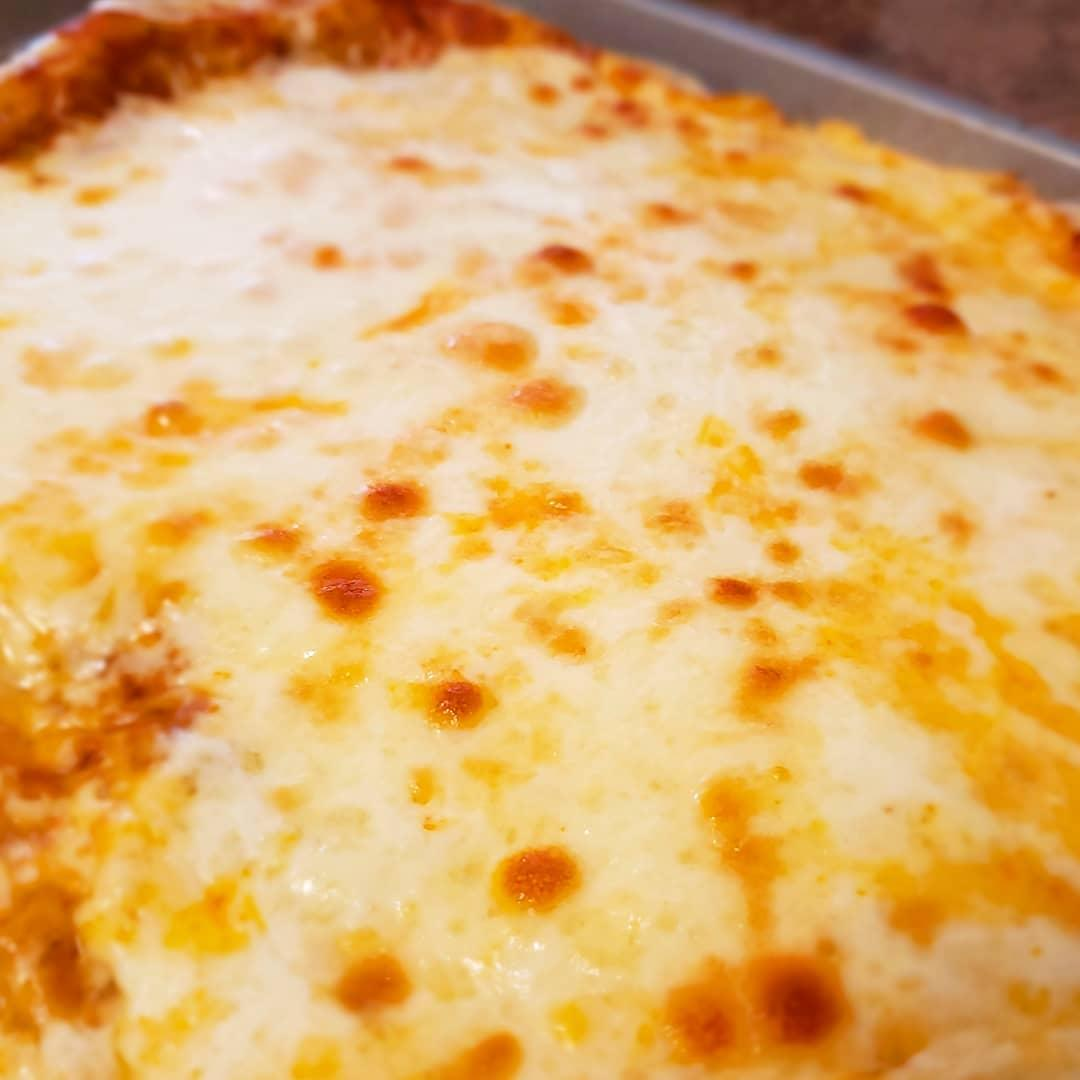Cheese: (0, 764, 1080, 1080), (0, 175, 1080, 478), (0, 478, 1080, 765)
Pizza: (0, 0, 1080, 1080)
